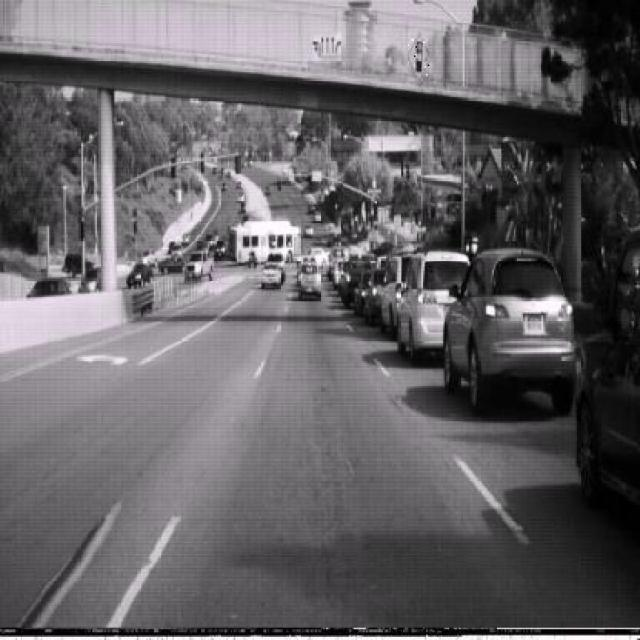signalAhead: (409, 29, 434, 80)
